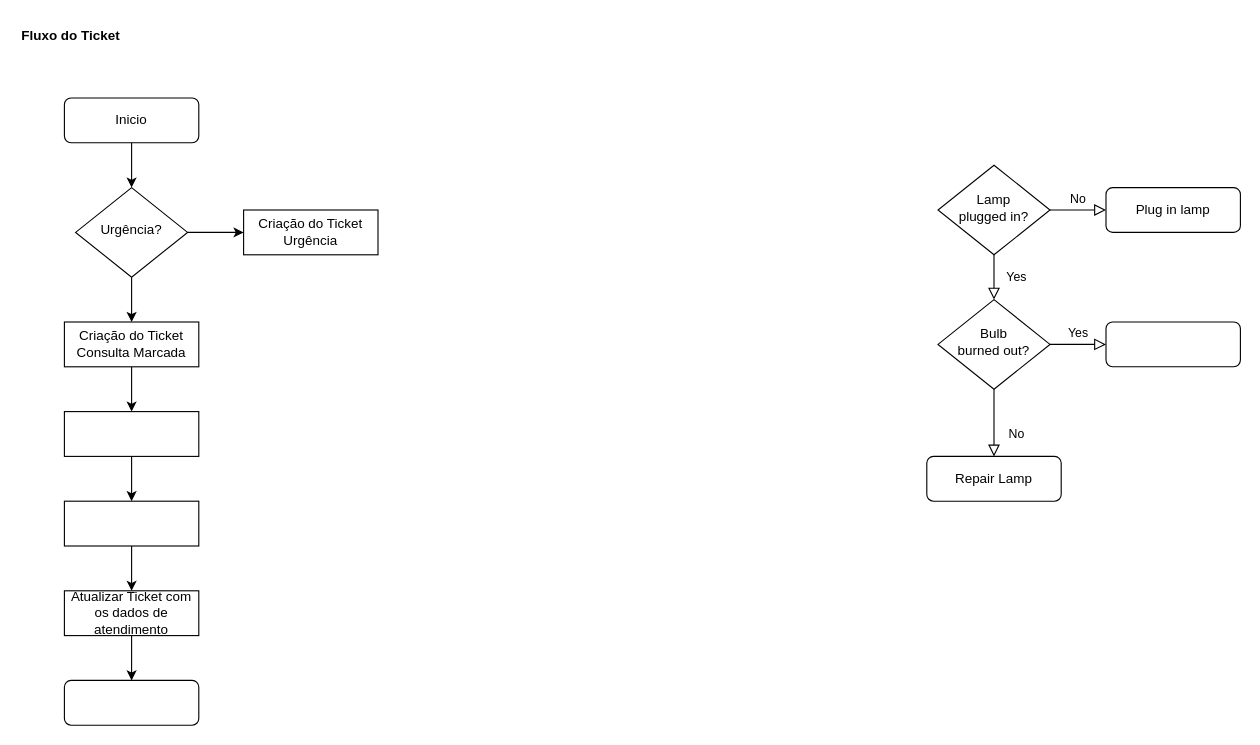
This 1260x745 diagram has some shape labels left out. The shapes that lost their labels are listed below. From the top down, each one's box as (x1, y1, x2, y2) in pixels, then its label:
(1105, 321, 1240, 367): Replace Bulb
(63, 410, 199, 456): Selecionar Balcão Adequado
(63, 500, 199, 546): Atualizar Counter do Balcão
(63, 679, 199, 725): Fim
